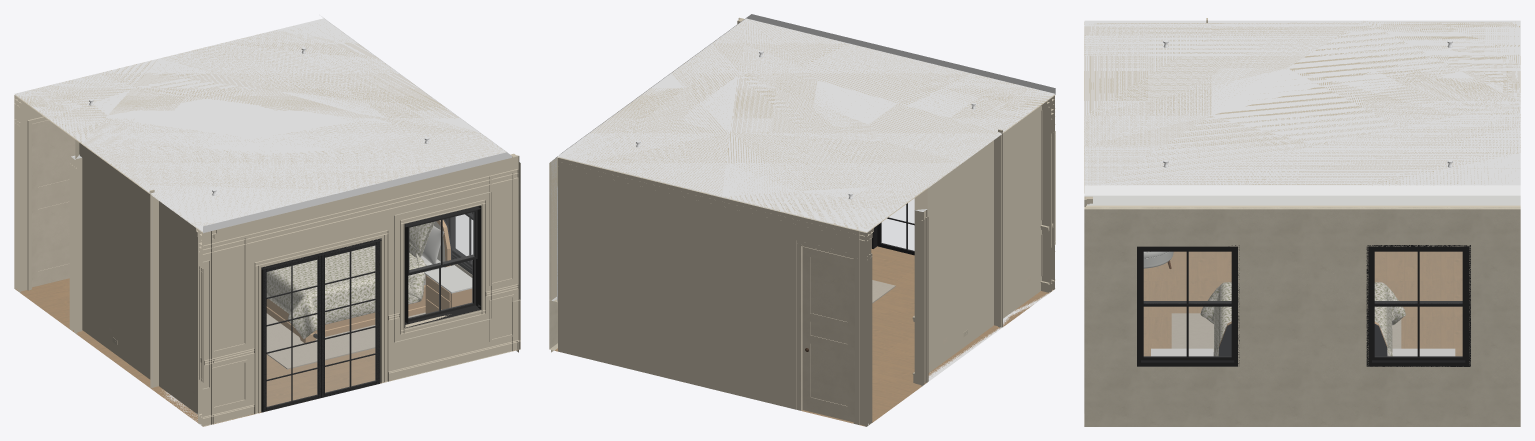
File: primary-bedroom-d6519231f705.glb
The picture shows the model from 3 angles, left to right: view 1: azimuth 30°, elevation 25°; view 2: azimuth 150°, elevation 25°; view 3: azimuth 270°, elevation 25°; orthographic projection. The views are drawn at different scales.
Parts seen in each view (by area): view 1: primary-bedroom-9d91b47435c6fb33, primary-bedroom-b0ade14315e4f1c3, primary-bedroom-e8793759323e04f0, primary-bedroom-0987656e6ddb83c1, primary-bedroom-fc6585fecfaf7ec3, primary-bedroom-e1735639a83d20d7, primary-bedroom-c791a0f218fead78, primary-bedroom-8418892a0a5de264, primary-bedroom-b7a870a0f6b43c8c, primary-bedroom-2575515a05775d9e, primary-bedroom-b5339e4b2b15762b, primary-bedroom-b0dbeb16b2b245ed (+18 smaller); view 2: primary-bedroom-9d91b47435c6fb33, primary-bedroom-21ac2ed1b4475155, primary-bedroom-e8793759323e04f0, primary-bedroom-fc6585fecfaf7ec3, primary-bedroom-b7a870a0f6b43c8c, primary-bedroom-c791a0f218fead78, primary-bedroom-2575515a05775d9e, primary-bedroom-b0ade14315e4f1c3, primary-bedroom-9ecc0d558be1c706, primary-bedroom-0987656e6ddb83c1, primary-bedroom-780708765654f3c3, primary-bedroom-30f9d475162e2dd8 (+2 smaller); view 3: primary-bedroom-9d91b47435c6fb33, primary-bedroom-adb6f49a6d2cbec3, primary-bedroom-e8793759323e04f0, primary-bedroom-16d9002bc6318568, primary-bedroom-2575515a05775d9e, primary-bedroom-91f952a1d198b4a4, primary-bedroom-f5a37a5545b9d676, primary-bedroom-791abe15be22adf2, primary-bedroom-8418892a0a5de264, primary-bedroom-b0dbeb16b2b245ed, primary-bedroom-30f9d475162e2dd8, primary-bedroom-618a70de12df1a33 (+2 smaller).
Boxes of the visible parts, x1,y1,x2,y2 form: primary-bedroom-9d91b47435c6fb33: (14, 18, 511, 232); primary-bedroom-b0ade14315e4f1c3: (198, 155, 519, 426); primary-bedroom-e8793759323e04f0: (17, 16, 511, 231); primary-bedroom-0987656e6ddb83c1: (261, 238, 381, 412); primary-bedroom-fc6585fecfaf7ec3: (75, 140, 158, 387); primary-bedroom-e1735639a83d20d7: (404, 205, 481, 328); primary-bedroom-c791a0f218fead78: (151, 194, 211, 425); primary-bedroom-8418892a0a5de264: (266, 245, 426, 338); primary-bedroom-b7a870a0f6b43c8c: (32, 120, 75, 287); primary-bedroom-2575515a05775d9e: (15, 278, 518, 426); primary-bedroom-b5339e4b2b15762b: (202, 169, 518, 254); primary-bedroom-b0dbeb16b2b245ed: (266, 312, 425, 369); primary-bedroom-9d91b47435c6fb33: (557, 18, 1055, 232); primary-bedroom-21ac2ed1b4475155: (558, 157, 871, 426); primary-bedroom-e8793759323e04f0: (561, 14, 1055, 229); primary-bedroom-fc6585fecfaf7ec3: (914, 134, 1002, 382); primary-bedroom-b7a870a0f6b43c8c: (802, 246, 853, 422); primary-bedroom-c791a0f218fead78: (994, 106, 1052, 327); primary-bedroom-2575515a05775d9e: (551, 246, 1053, 426); primary-bedroom-b0ade14315e4f1c3: (738, 17, 1054, 292); primary-bedroom-9ecc0d558be1c706: (914, 209, 927, 384); primary-bedroom-0987656e6ddb83c1: (872, 199, 914, 255); primary-bedroom-780708765654f3c3: (799, 244, 854, 423); primary-bedroom-30f9d475162e2dd8: (550, 158, 556, 300); primary-bedroom-9d91b47435c6fb33: (1084, 20, 1520, 195); primary-bedroom-adb6f49a6d2cbec3: (1084, 207, 1520, 367); primary-bedroom-e8793759323e04f0: (1084, 21, 1520, 194); primary-bedroom-16d9002bc6318568: (1086, 367, 1520, 424); primary-bedroom-2575515a05775d9e: (1084, 251, 1520, 426); primary-bedroom-91f952a1d198b4a4: (1366, 245, 1470, 366); primary-bedroom-f5a37a5545b9d676: (1137, 245, 1239, 366); primary-bedroom-791abe15be22adf2: (1084, 195, 1520, 205); primary-bedroom-8418892a0a5de264: (1200, 282, 1405, 356); primary-bedroom-b0dbeb16b2b245ed: (1171, 313, 1401, 351); primary-bedroom-30f9d475162e2dd8: (1086, 205, 1520, 206); primary-bedroom-618a70de12df1a33: (1219, 323, 1387, 356).
Bounding box in the file's own units: 4.97 × 3.04 × 5.11.
37 materials, 7 textured.
